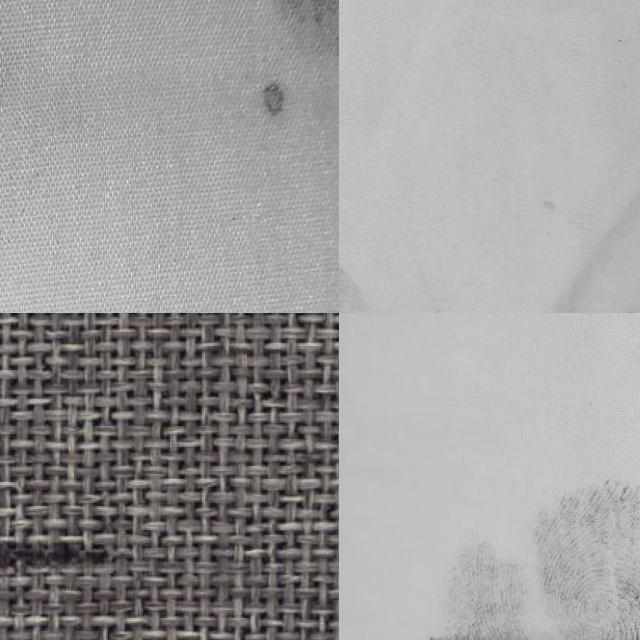Hole: (353, 436, 640, 640), (220, 0, 339, 137), (0, 494, 139, 607)
